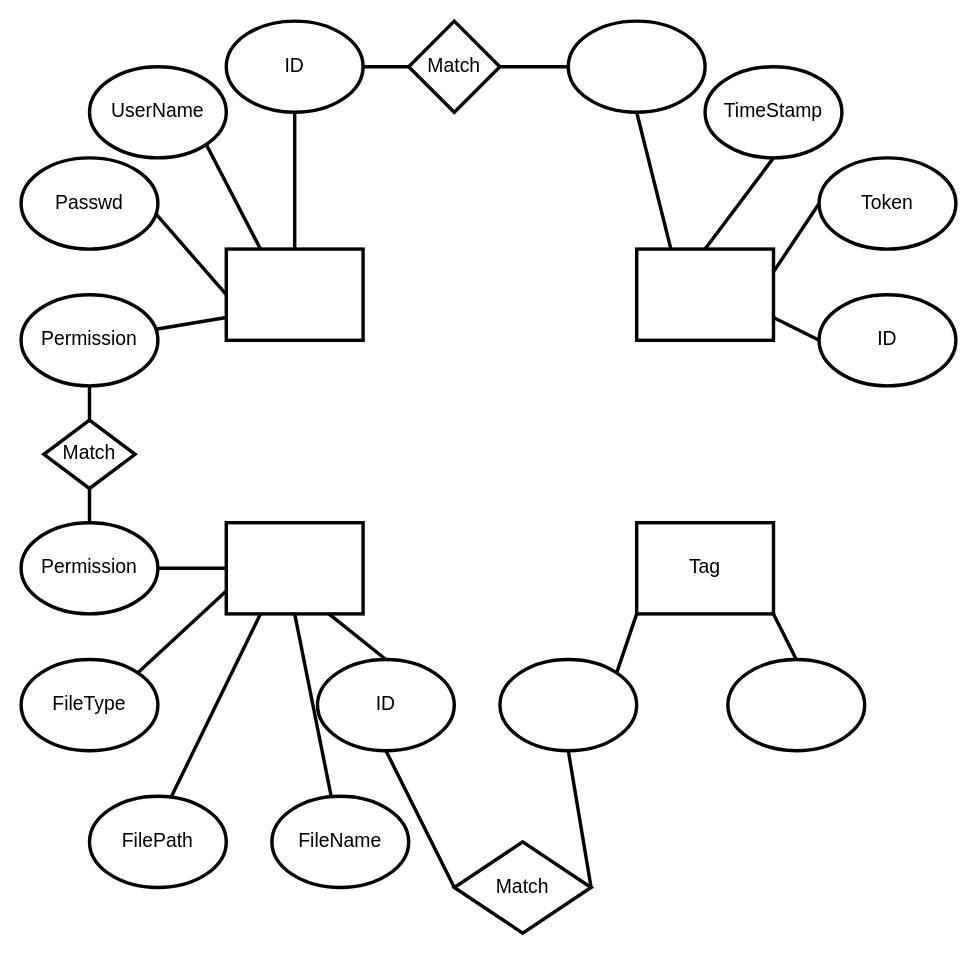
Image size: 977x954. Some labels were removed from this diagram. The shapes that lost their labels are listed below. From the top down, each one's centre as x and y in pixels, then its label:
pixel 636 66: UserID
pixel 294 294: User
pixel 704 294: Login
pixel 294 567: File
pixel 568 704: FileID
pixel 796 704: TagName
